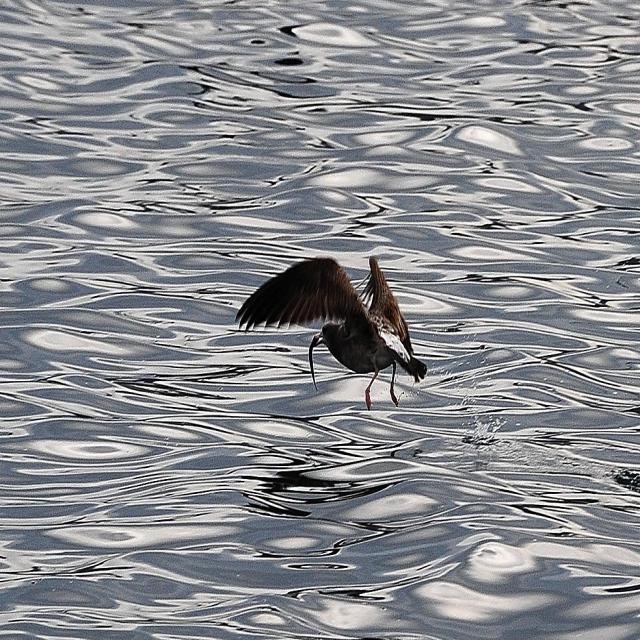bird: (230, 258, 432, 408)
